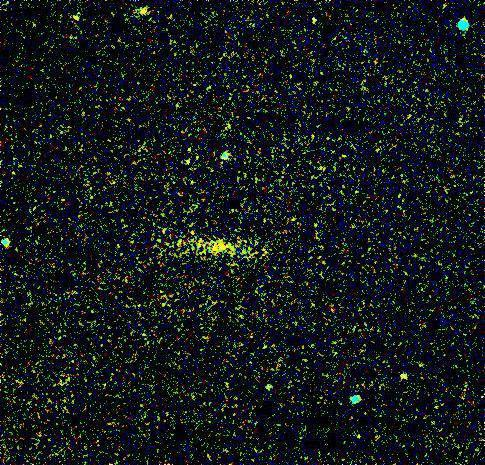star: (128, 0, 158, 27)
